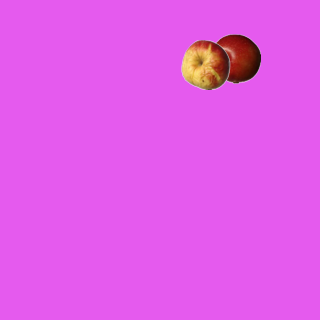Apple Braeburn: (210, 33, 260, 83)
Apple Red Yellow 1: (180, 39, 230, 89)
